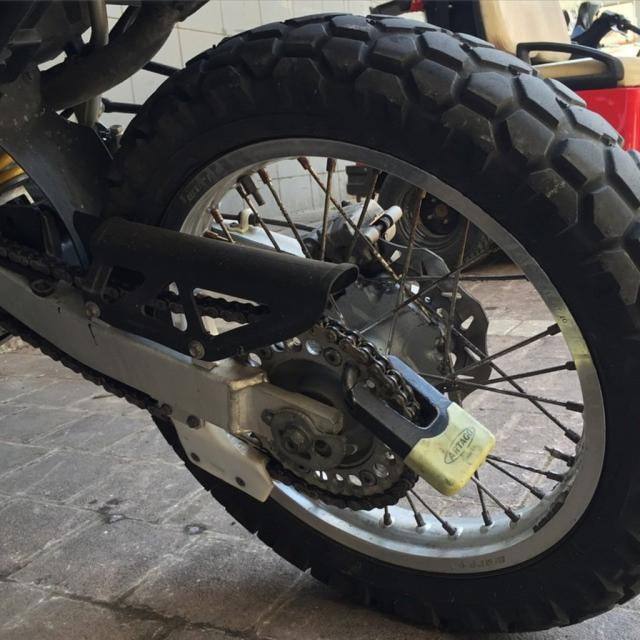Motorbikes: (1, 4, 640, 632)
